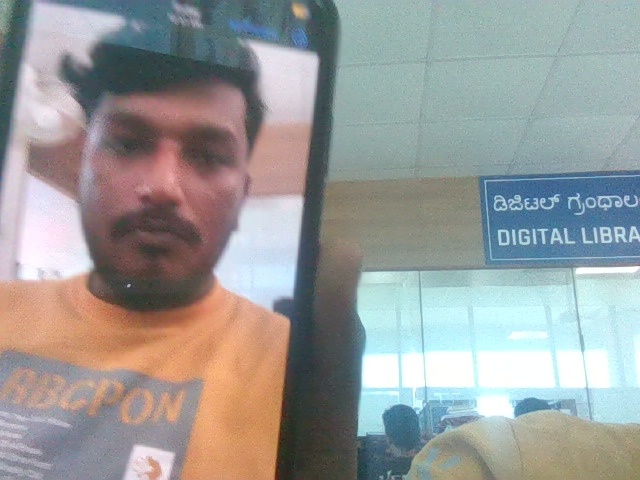fake: (50, 0, 279, 324)
